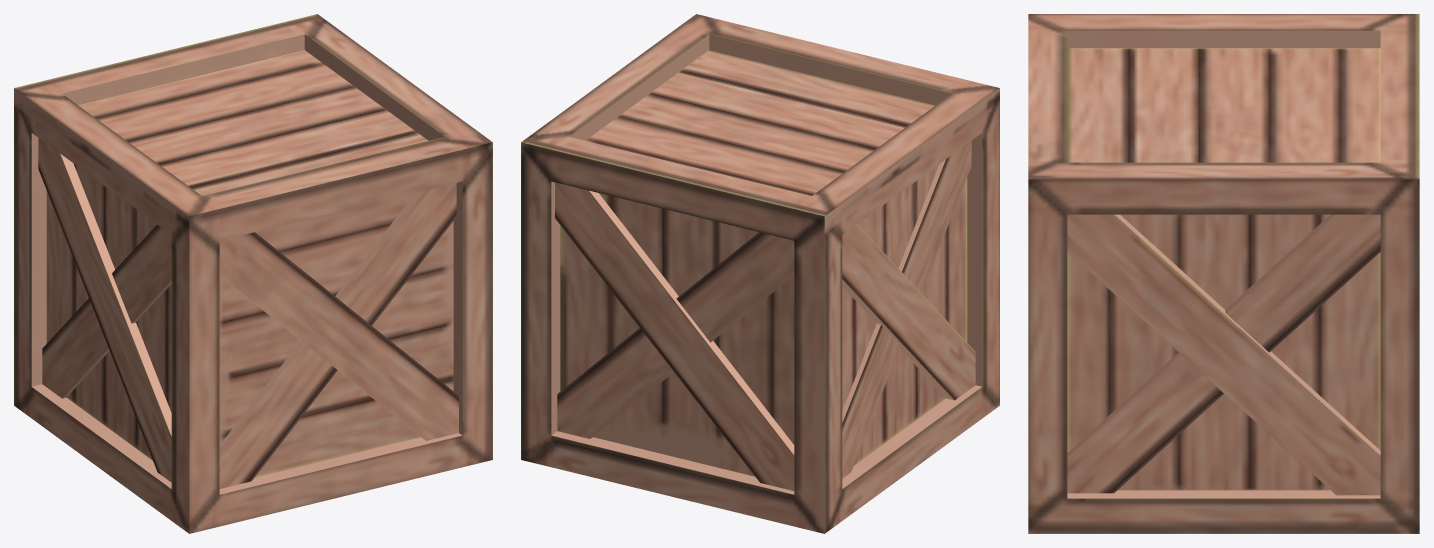
Rendered from PierAssets_PierBox.fbx.
The picture shows the model from 3 angles, left to right: view 1: azimuth 30°, elevation 25°; view 2: azimuth 150°, elevation 25°; view 3: azimuth 270°, elevation 25°; orthographic projection. The views are drawn at different scales.
Parts seen in each view (by area): view 1: PierBox; view 2: PierBox; view 3: PierBox.
Part boxes in pixels (x1=…): PierBox: x1=14, y1=14, x2=492, y2=533; PierBox: x1=521, y1=14, x2=999, y2=533; PierBox: x1=1028, y1=14, x2=1419, y2=533.
Bounding box in the file's own units: 112 × 112 × 112.
1 material, 1 textured.
